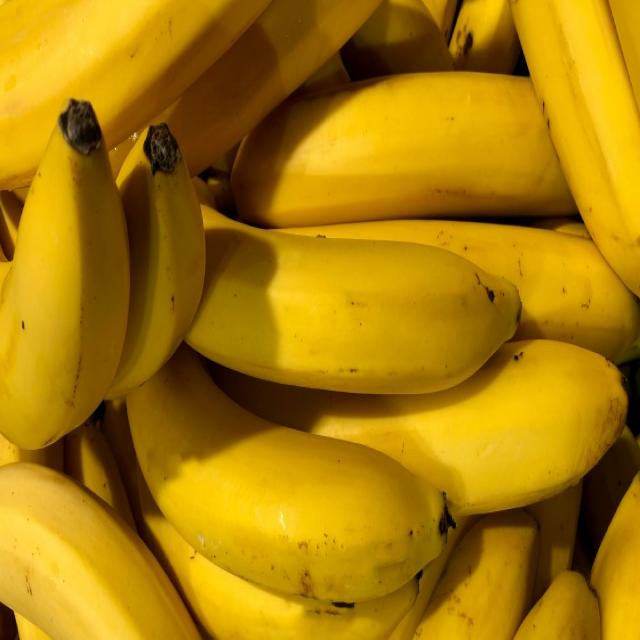Banana: (126, 345, 448, 601), (214, 340, 626, 516), (186, 207, 521, 394), (231, 71, 576, 227), (284, 220, 640, 363), (0, 0, 269, 188), (0, 125, 130, 448), (512, 0, 640, 295), (0, 463, 199, 638), (106, 122, 205, 397)
